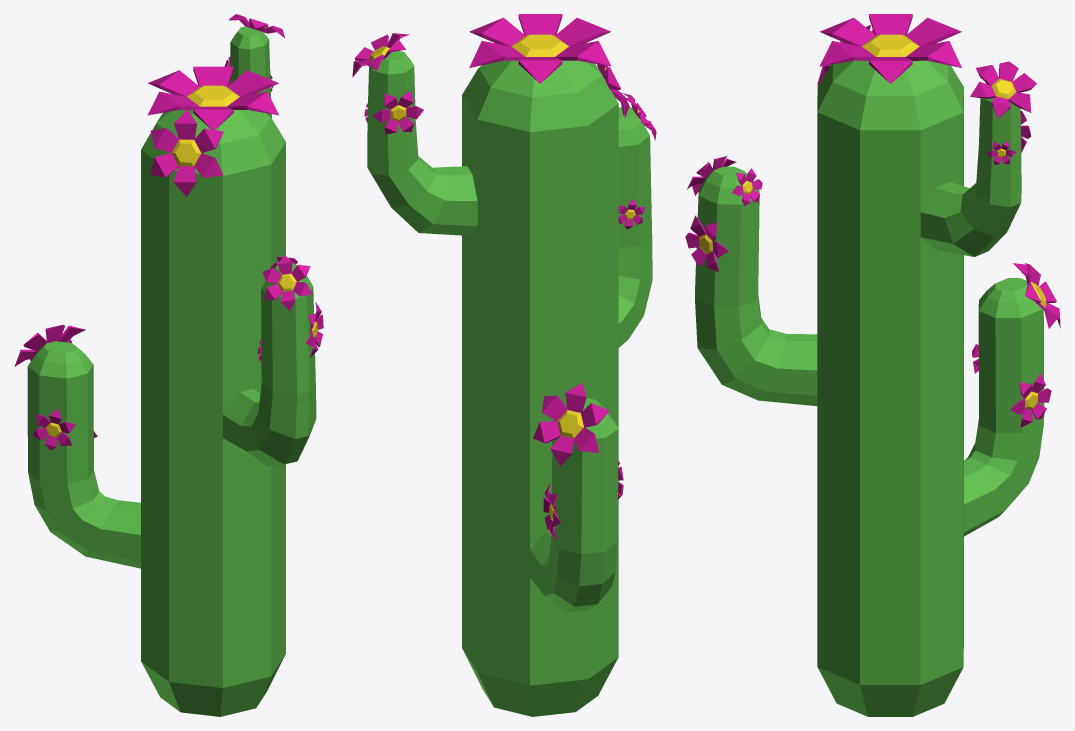
The model's file is Cactus_Tall_Flower.fbx.
3 views of the same model, side by side, from view 1: azimuth 30°, elevation 25°; view 2: azimuth 150°, elevation 25°; view 3: azimuth 270°, elevation 25° (orthographic). The views are drawn at different scales.
Visible parts, largest first — view 1: Cactus_Tall_Flower; view 2: Cactus_Tall_Flower; view 3: Cactus_Tall_Flower.
Part boxes in pixels (box(x1,y1,x2,y2)): Cactus_Tall_Flower: box(14, 14, 323, 716); Cactus_Tall_Flower: box(352, 14, 656, 716); Cactus_Tall_Flower: box(685, 14, 1060, 716).
Bounding box in the file's own units: 105 × 251 × 127.
